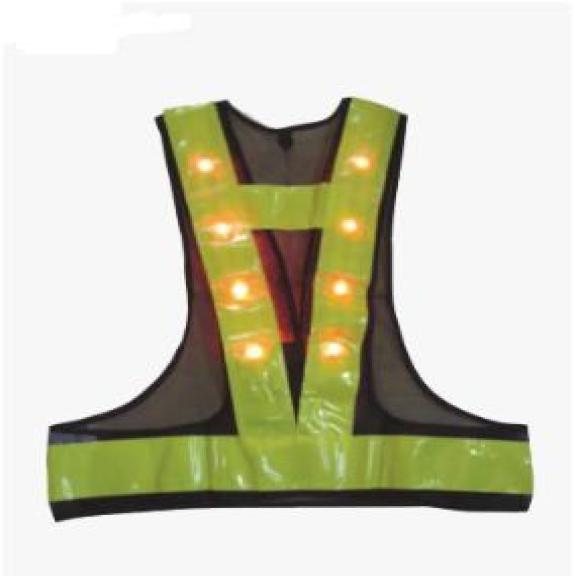safety_vest: (42, 101, 534, 520)
